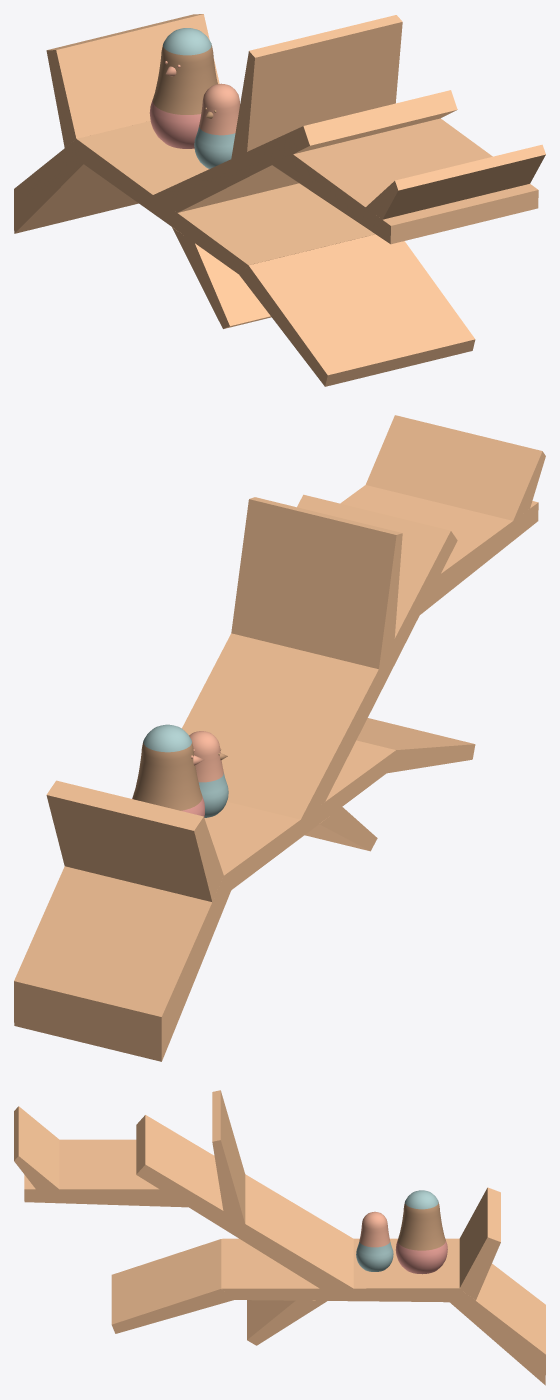
Rendered from Furn3_bookcase_right_color2_joined.fbx.
3 views of the same model, one above another, from view 1: azimuth 30°, elevation 25°; view 2: azimuth 150°, elevation 25°; view 3: azimuth 270°, elevation 25° (orthographic). The views are drawn at different scales.
Parts seen in each view (by area): view 1: Сфера.030; view 2: Сфера.030; view 3: Сфера.030.
Boxes of the visible parts, box(x1,y1,x2,y2) form: Сфера.030: box(14, 14, 545, 386); Сфера.030: box(14, 415, 545, 1061); Сфера.030: box(14, 1090, 545, 1385).
Bounding box in the file's own units: 77.77 × 179 × 351.
